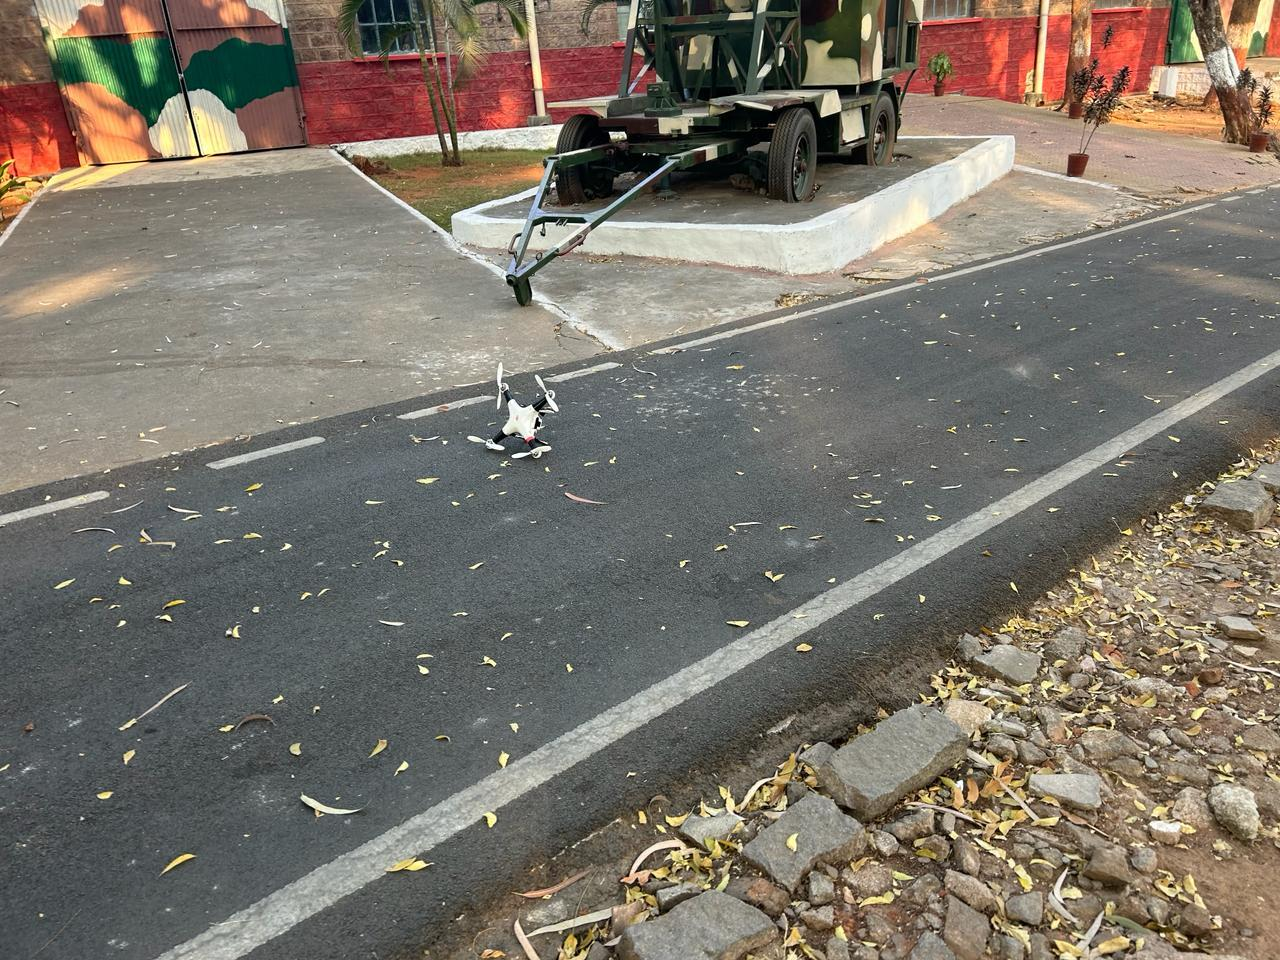drone: (422, 341, 622, 497)
